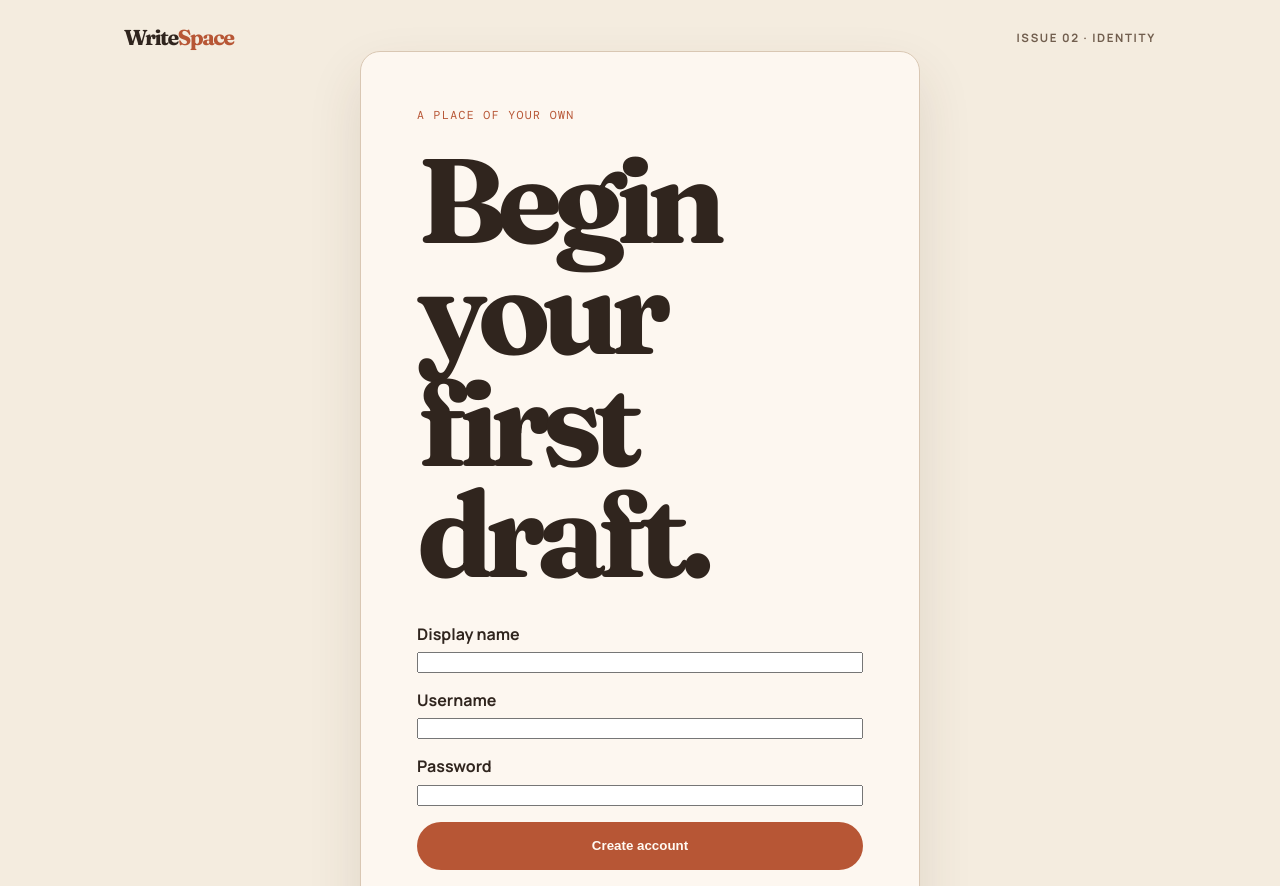
Test: AuthPage › shows a visible error when the username is left blank
Step 1. Type "Ada Lovelace" into the field labelled "Display name" → (640, 663), box [417, 652, 863, 673]
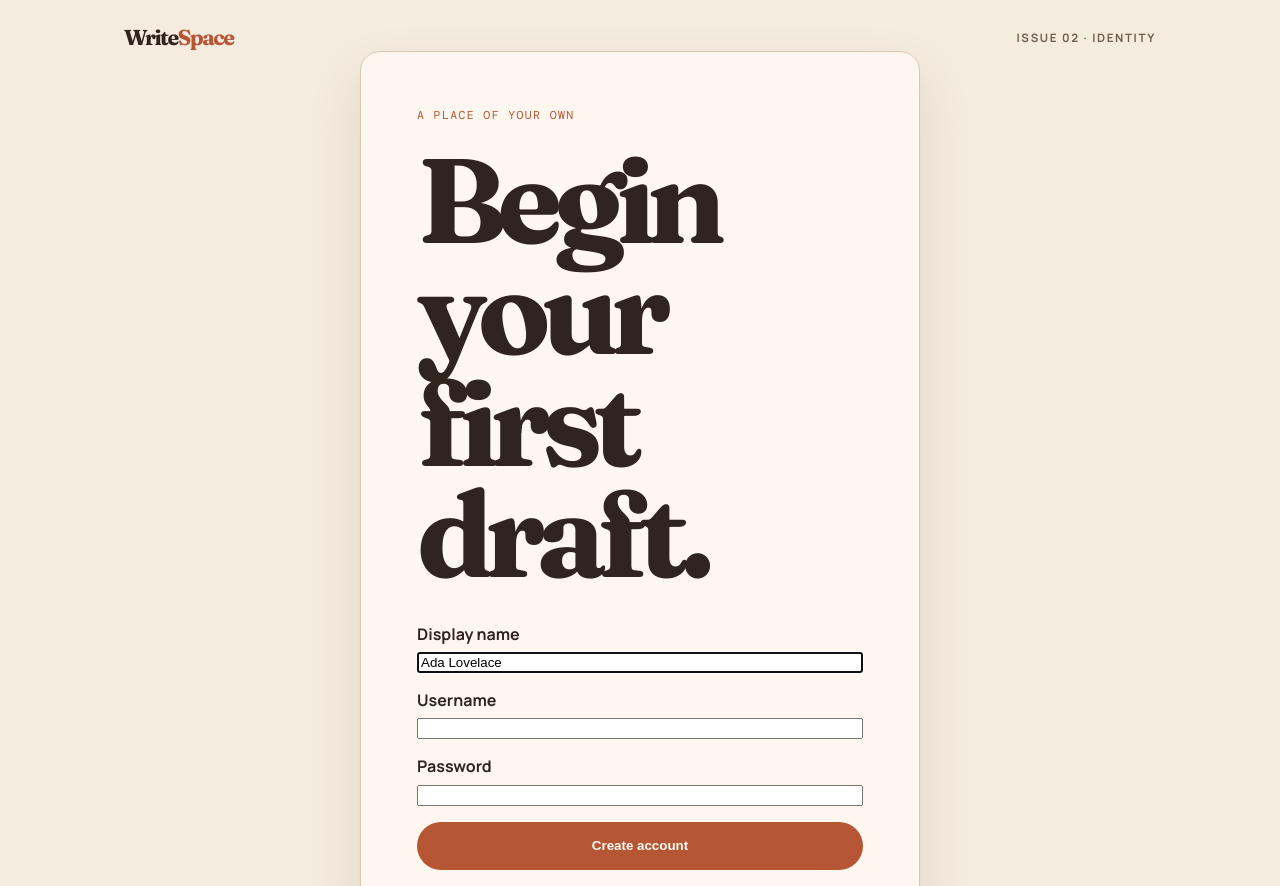
Step 2. Type "CorrectHorseBattery9" into the password field labelled "Password" → (640, 795), box [417, 784, 863, 806]
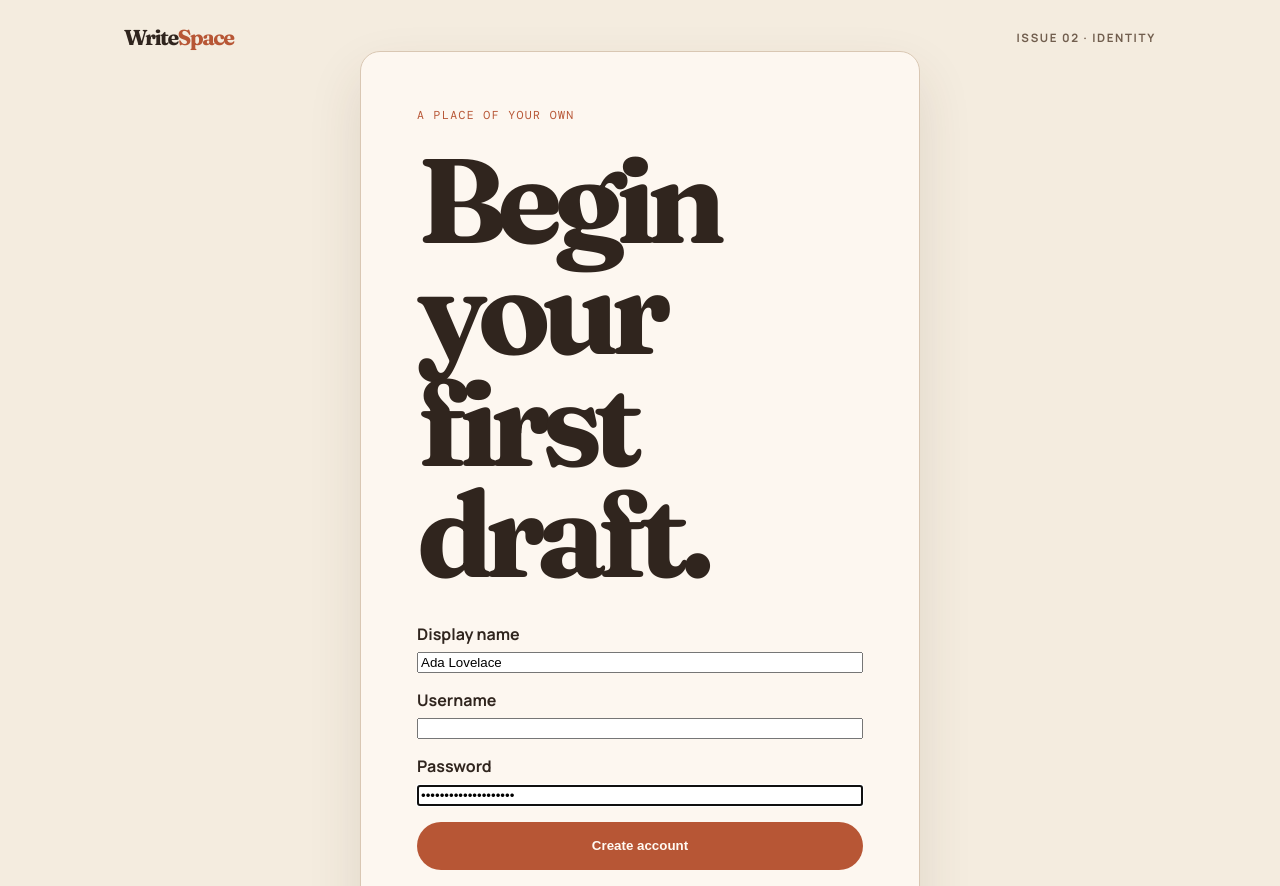
Step 3. Click the button "Create account" → (640, 846), box [417, 822, 863, 870]
(page scrolled)
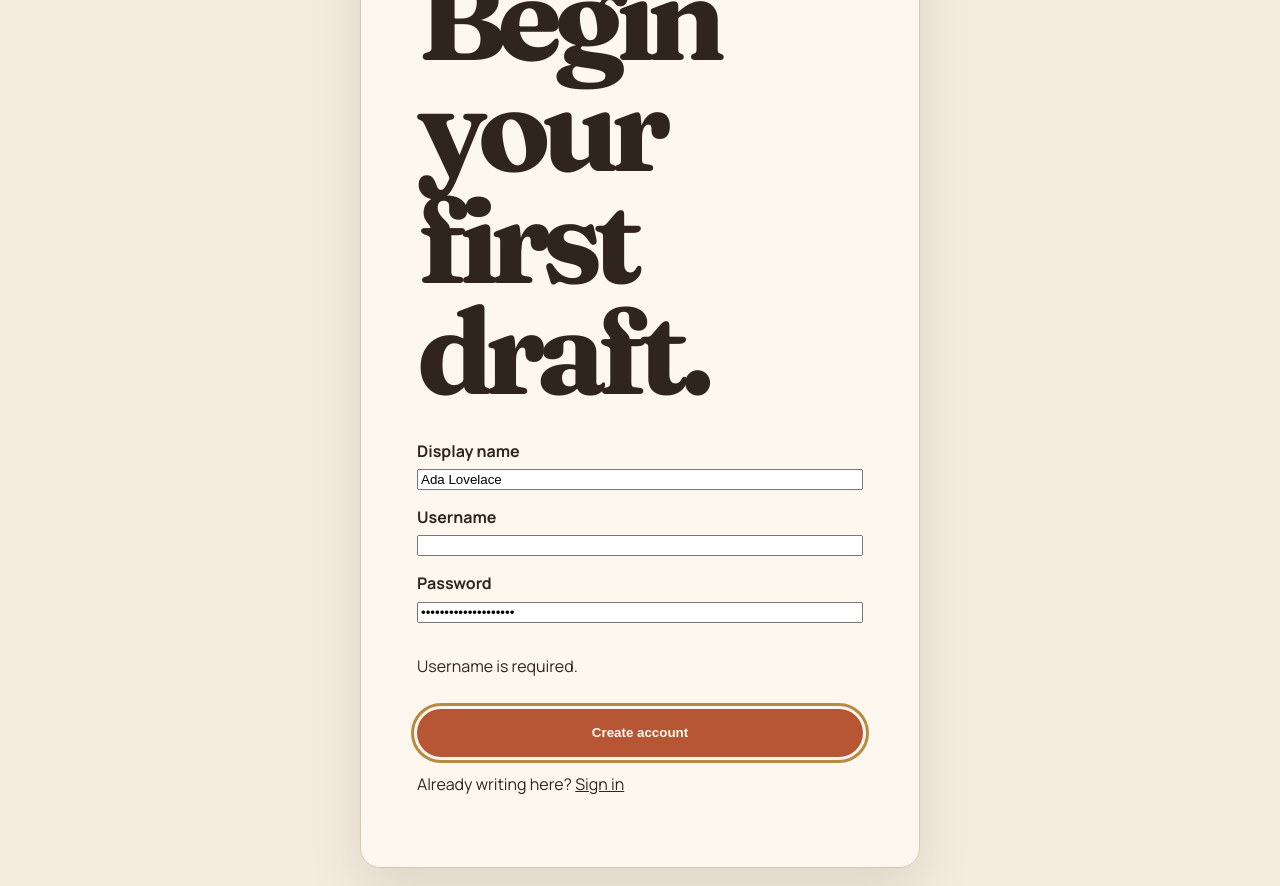
Expected: the button "Create account" is enabled, [417, 708, 863, 756]
Expected: the message shows "Username is required", [417, 654, 578, 676]
